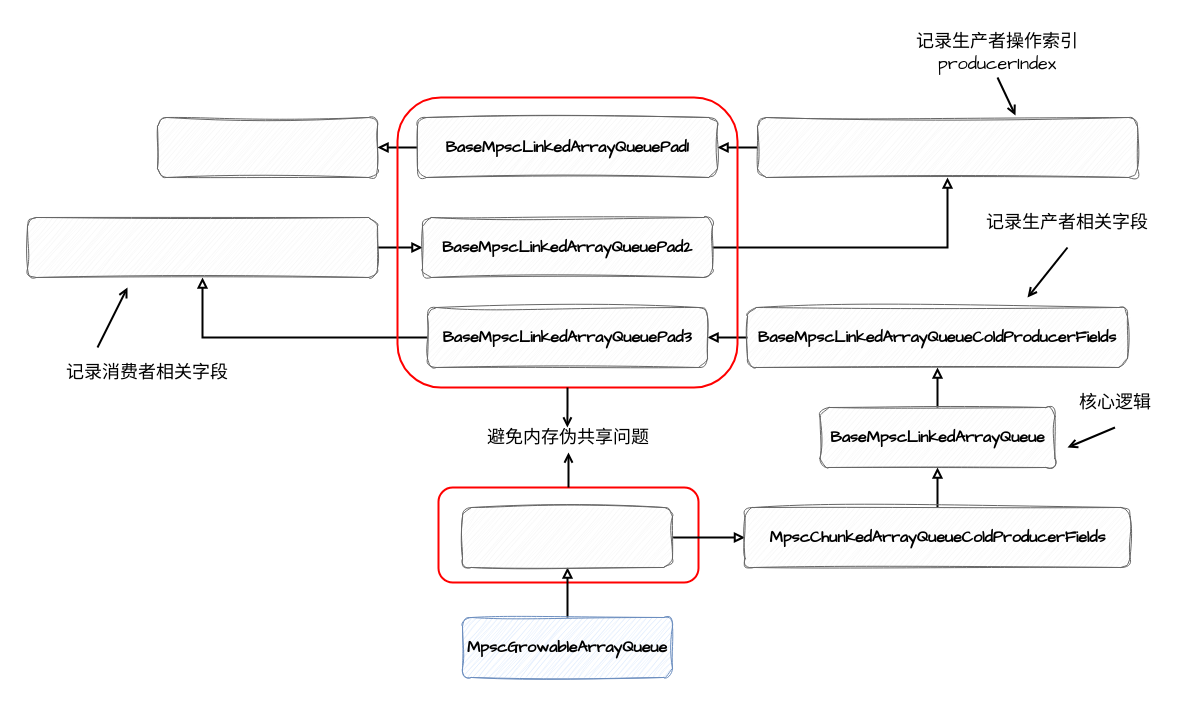
Some shapes in this 1192 by 714 pixel diagram are drawn without their labels. The centre of each missing label's shape, as x and y in pixels:
BaseMpscLinkedArrayQueueConsumerFields: [202,247]
BaseMpscLinkedArrayQueueProducerFields: [947,147]
java.util.AbstractQueue: [267,147]
MpscChunkedArrayQueue: [567,537]
